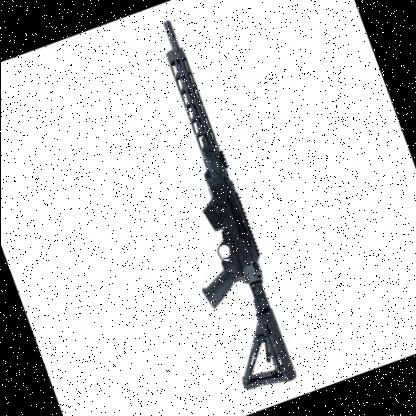rifle: (102, 4, 320, 404)
